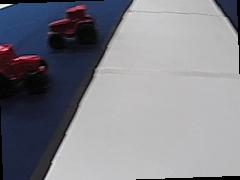Tracktor: (47, 3, 97, 48), (1, 42, 47, 88)
